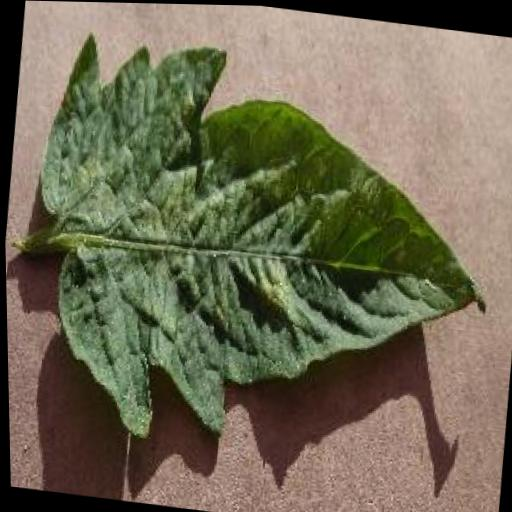Spider Mites: (10, 18, 512, 476)
